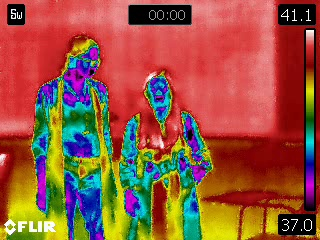human: (35, 34, 117, 240), (119, 69, 216, 240)
